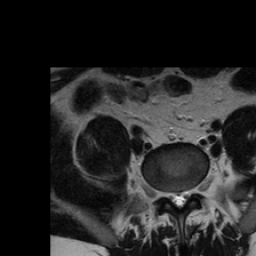CCS_normal: (176, 184, 183, 216)
LFS_normal: (188, 179, 196, 200)
LLS_normal: (183, 184, 189, 206)
RFS_stenosis: (161, 184, 169, 204)
RLS_normal: (169, 185, 176, 208)
